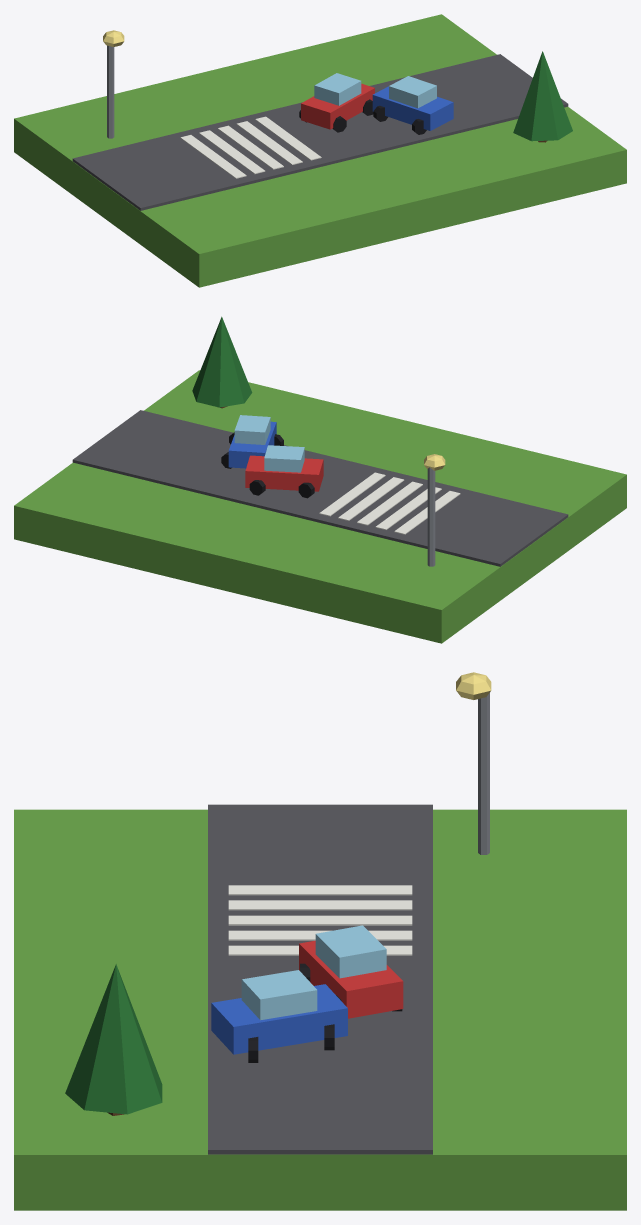
Rendered from crash_model.glb.
The picture shows the model from 3 angles, top to bottom: view 1: azimuth 30°, elevation 25°; view 2: azimuth 150°, elevation 25°; view 3: azimuth 270°, elevation 25°; orthographic projection. The views are drawn at different scales.
Parts seen in each view (by area): view 1: board_diorama_grass, road_diorama_road, lines_diorama_lines (×5), tree_diorama_tree, cabin_toy_glass (×2), body_toy_car_3a6ad0, body_toy_car_d23a3a, post_diorama_post; view 2: board_diorama_grass, road_diorama_road, lines_diorama_lines (×5), tree_diorama_tree, cabin_toy_glass (×2), body_toy_car_d23a3a, body_toy_car_3a6ad0, post_diorama_post; view 3: board_diorama_grass, road_diorama_road, lines_diorama_lines (×5), tree_diorama_tree, cabin_toy_glass (×2), body_toy_car_3a6ad0, body_toy_car_d23a3a, post_diorama_post, lamp_diorama_lamp.
Boxes of the visible parts, <box> form: board_diorama_grass: <box>14,14,626,287</box>; road_diorama_road: <box>72,54,568,210</box>; lines_diorama_lines (×5): <box>180,116,321,178</box>; tree_diorama_tree: <box>513,51,572,141</box>; cabin_toy_glass (×2): <box>314,73,436,108</box>; body_toy_car_3a6ad0: <box>372,86,453,130</box>; body_toy_car_d23a3a: <box>301,83,374,129</box>; post_diorama_post: <box>107,45,114,138</box>; board_diorama_grass: <box>14,370,626,643</box>; road_diorama_road: <box>72,410,568,566</box>; lines_diorama_lines (×5): <box>319,472,460,534</box>; tree_diorama_tree: <box>192,316,252,407</box>; cabin_toy_glass (×2): <box>234,415,304,472</box>; body_toy_car_d23a3a: <box>245,455,323,491</box>; body_toy_car_3a6ad0: <box>228,421,276,468</box>; post_diorama_post: <box>427,467,435,566</box>; board_diorama_grass: <box>14,809,626,1210</box>; road_diorama_road: <box>208,804,432,1154</box>; lines_diorama_lines (×5): <box>228,885,412,955</box>; tree_diorama_tree: <box>65,964,162,1114</box>; cabin_toy_glass (×2): <box>241,925,386,1020</box>; body_toy_car_3a6ad0: <box>211,984,347,1054</box>; body_toy_car_d23a3a: <box>299,940,403,1018</box>; post_diorama_post: <box>478,693,489,854</box>; lamp_diorama_lamp: <box>456,672,491,699</box>.
Size of the model in its own units: 0.8 by 0.252 by 0.6.
